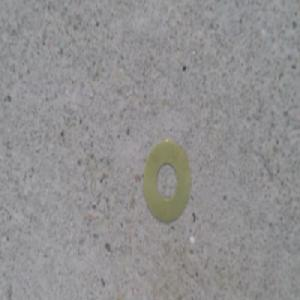Washer: (142, 137, 192, 228)
